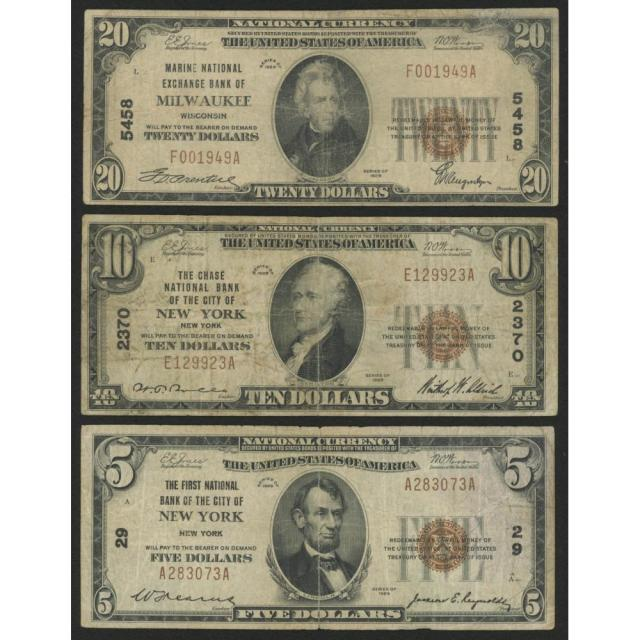10-Front: (82, 214, 562, 421)
20-Front: (83, 8, 560, 212)
5-Front: (80, 423, 557, 635)
